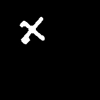single_crochet: (20, 17, 43, 43)
